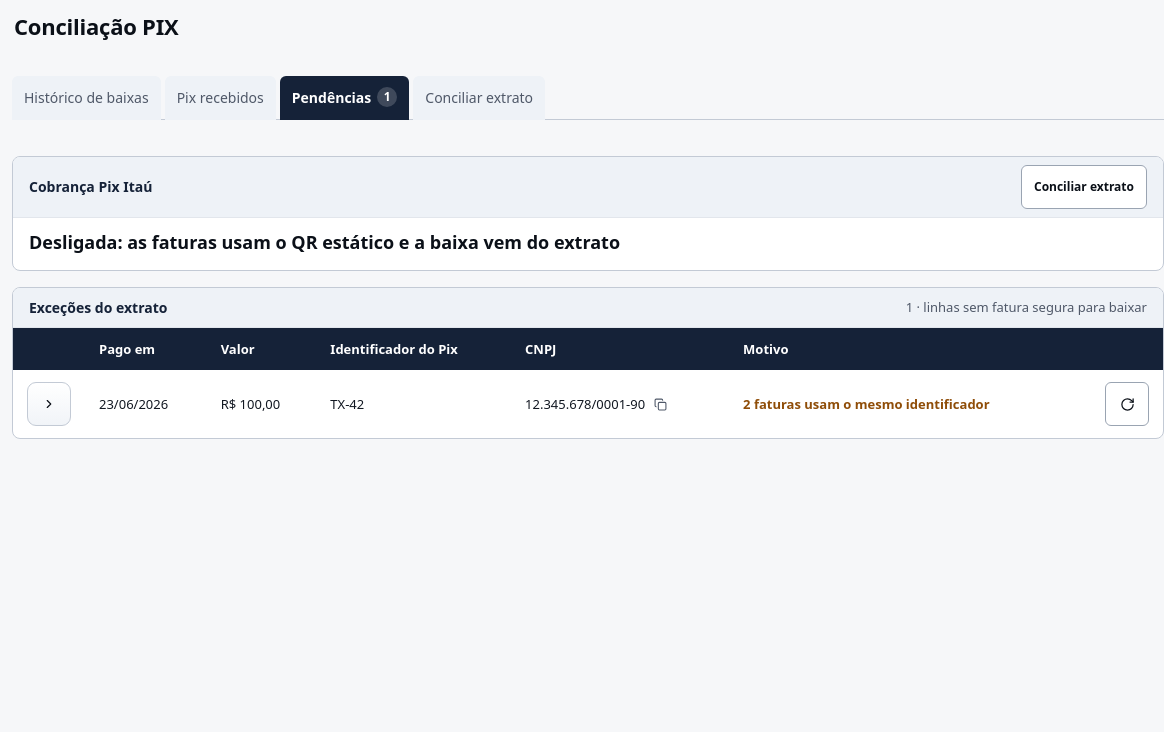
Test: Conciliação PIX › escolher fatura baixa pela autoridade financeira e encerra a exceção
Click the button named "Abrir faturas candidatas da linha 8": (49, 404) [27, 382, 71, 426]
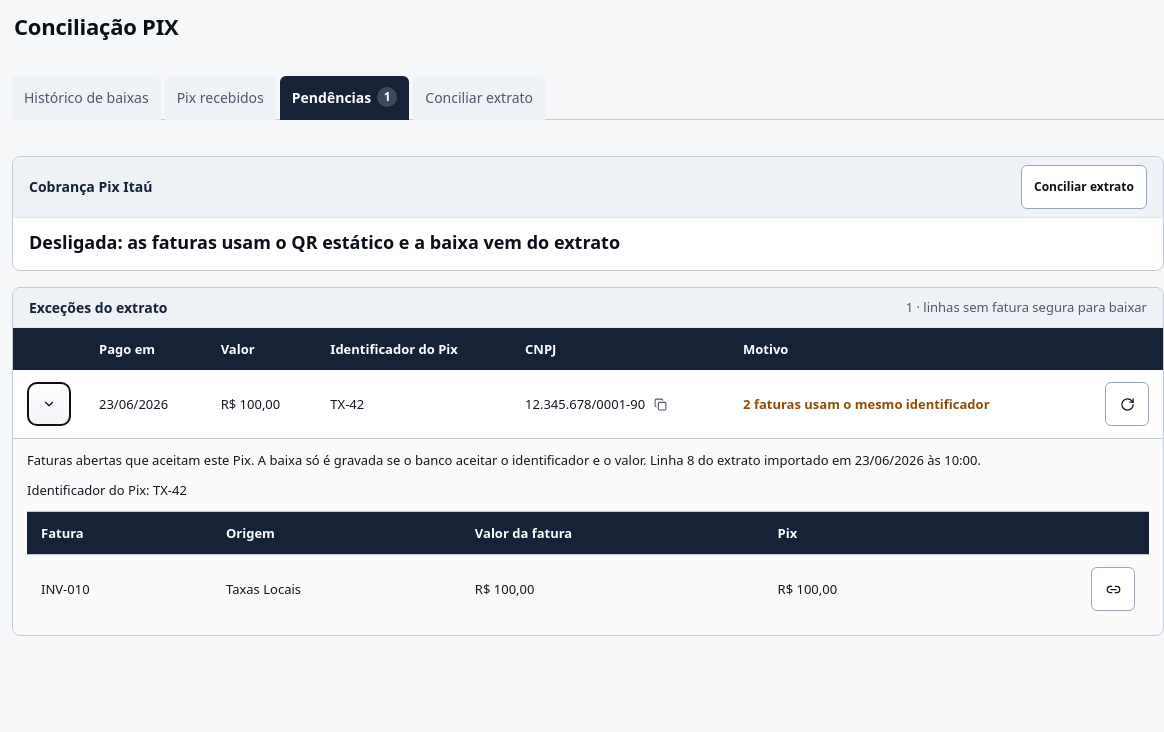
Expected: the text "INV-010" is shown, [27, 554, 212, 623]
Expected: the text "Linha 8 do extrato importado em 23/06/2026 às 10:00" is shown, [27, 451, 1149, 469]
Expected: the column headings read "Fatura", "Origem", "Valor da fatura", "Pix", "Ação", in this order, [27, 512, 212, 554]; [212, 512, 461, 554]; [461, 512, 764, 554]; [764, 512, 975, 554]; [975, 512, 1149, 554]
Click the button named "Baixar na fatura INV-010": (1113, 589) [1091, 567, 1135, 611]
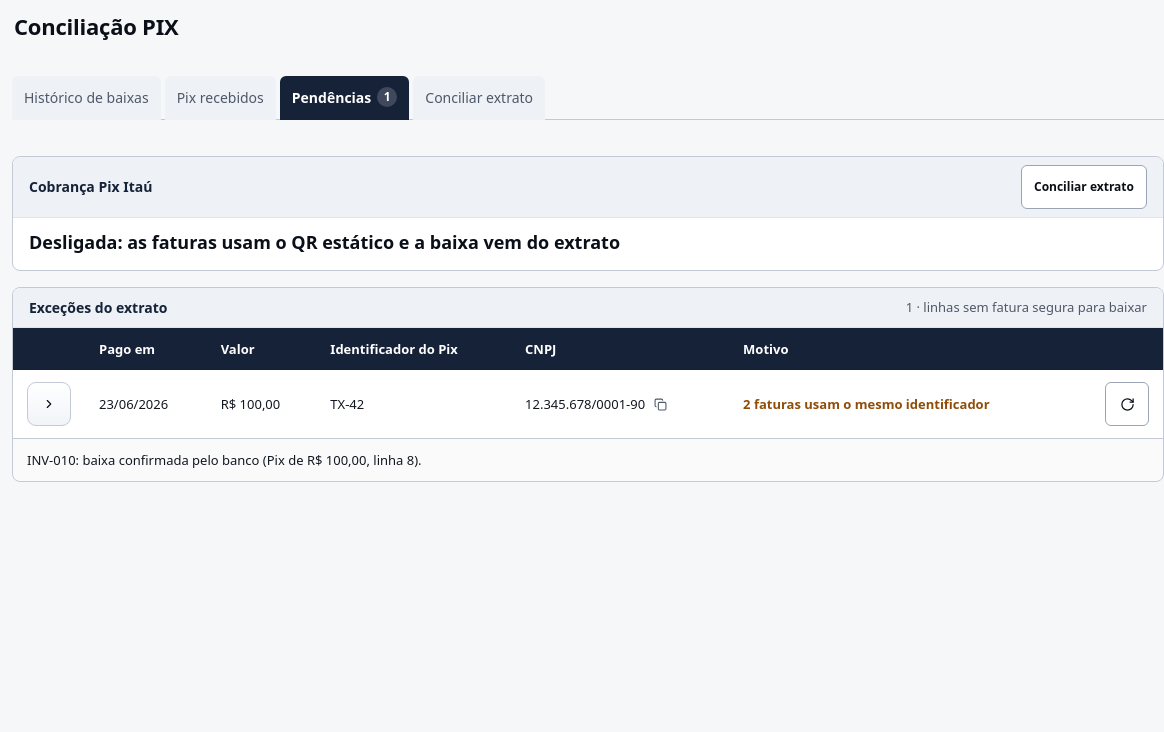
Expected: the text "INV-010: baixa confirmada pelo banco (Pix de R$ 100,00, linha 8)." is shown, [27, 451, 422, 469]
